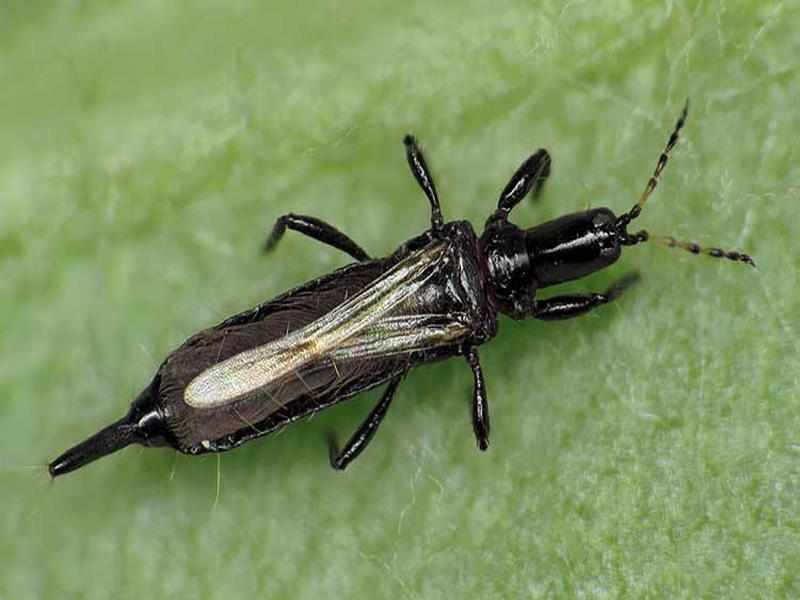Thrips: (76, 152, 653, 470)
